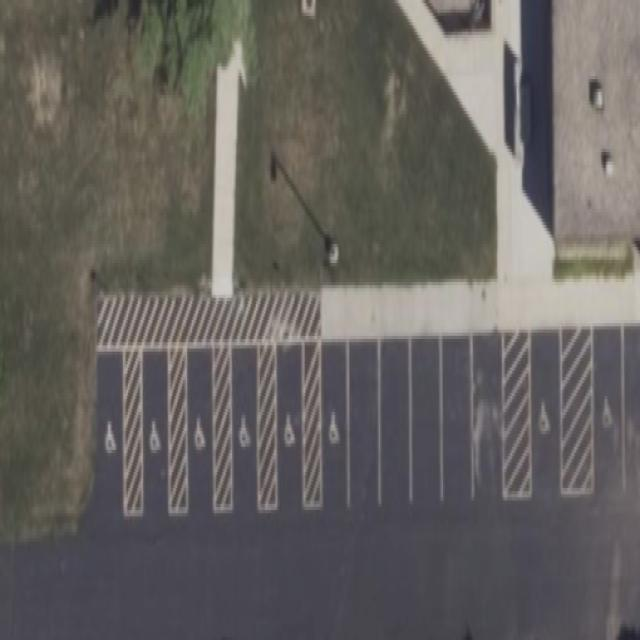Empty: (530, 332, 562, 496), (592, 328, 624, 490), (348, 342, 380, 504), (472, 332, 502, 500), (380, 338, 410, 502), (442, 334, 472, 498), (410, 340, 440, 500), (186, 344, 214, 512), (230, 342, 258, 510), (143, 350, 169, 514), (277, 344, 303, 508), (322, 340, 348, 504), (97, 353, 123, 515)
